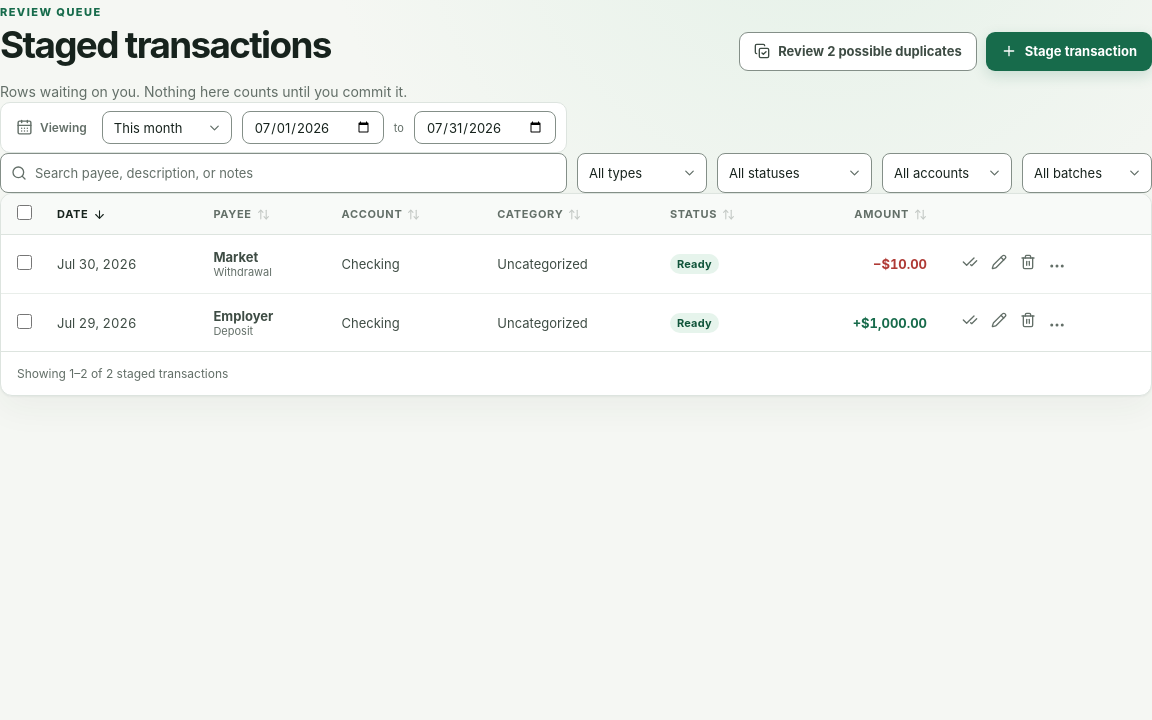
Scenario: editing staged rows in bulk › says how the queue looks afterwards and drops the selection
The image size is (1152, 720).
Check: the text "Market" is shown, box top-left (213, 249), bottom-right (258, 265)
Click the checkbox named "Select Market": coordinates (24, 263) top-left (16, 255), bottom-right (32, 270)
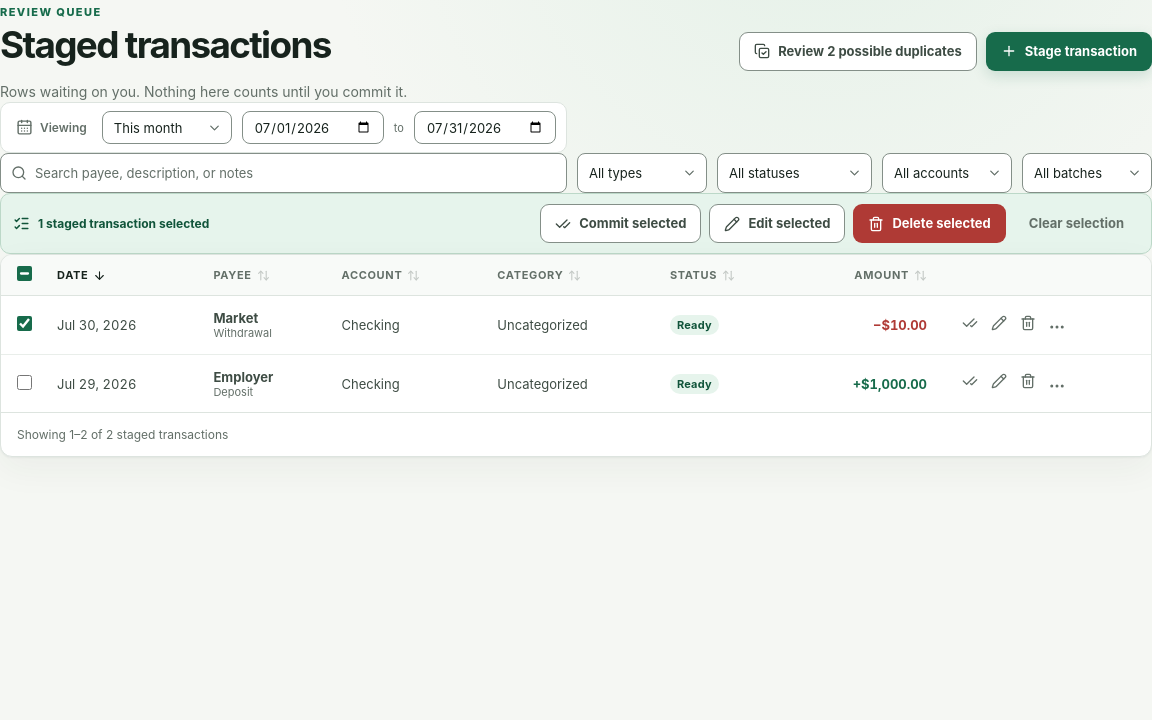
Click the checkbox named "Select Employer": coordinates (24, 382) top-left (16, 374), bottom-right (32, 390)
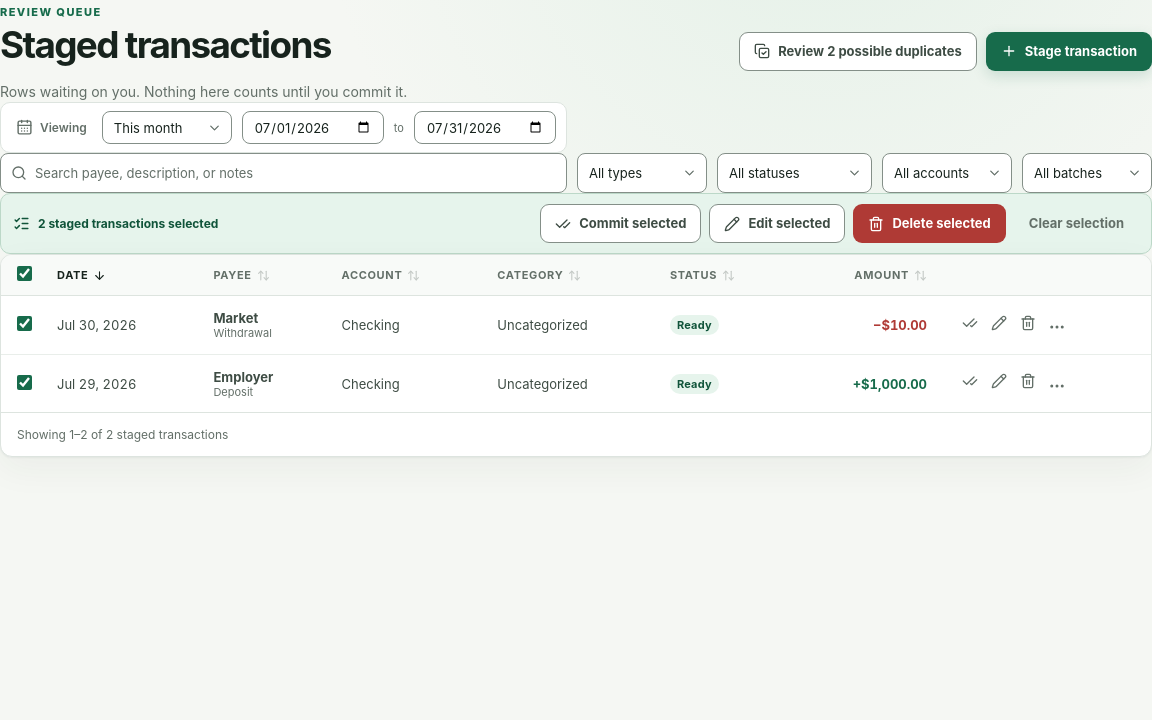
Click the button "Edit selected": coordinates (777, 224) top-left (709, 204), bottom-right (845, 243)
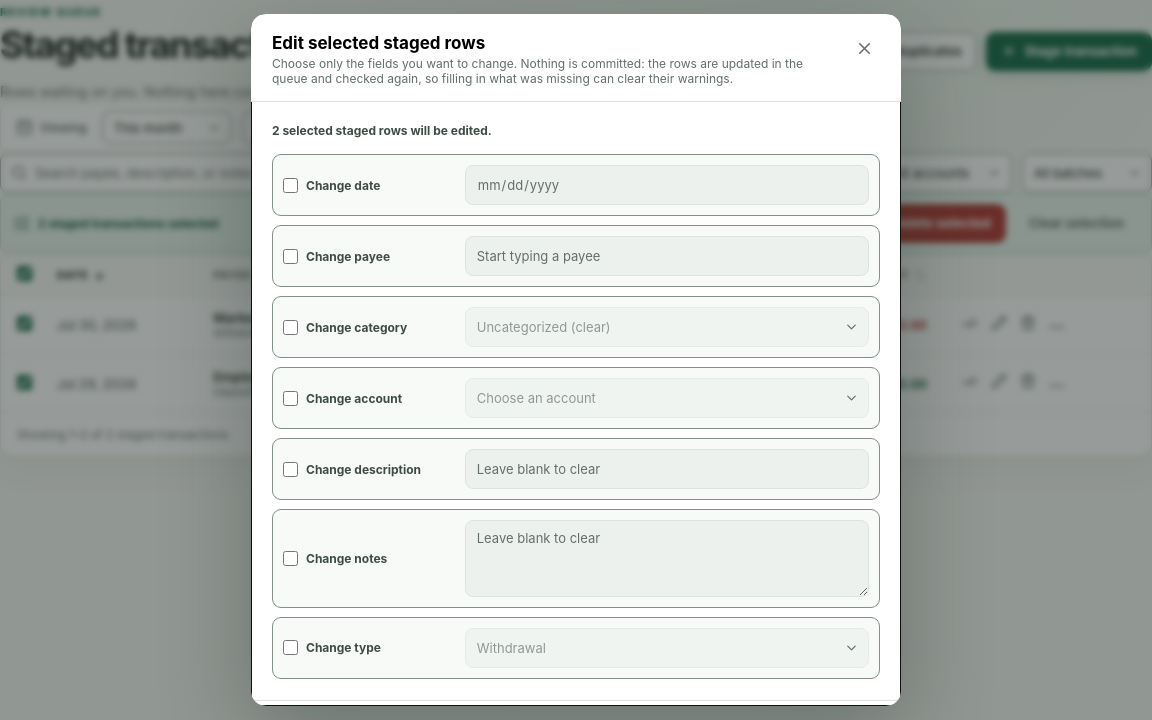
Click the text "Change payee": coordinates (348, 256) top-left (306, 248), bottom-right (390, 264)
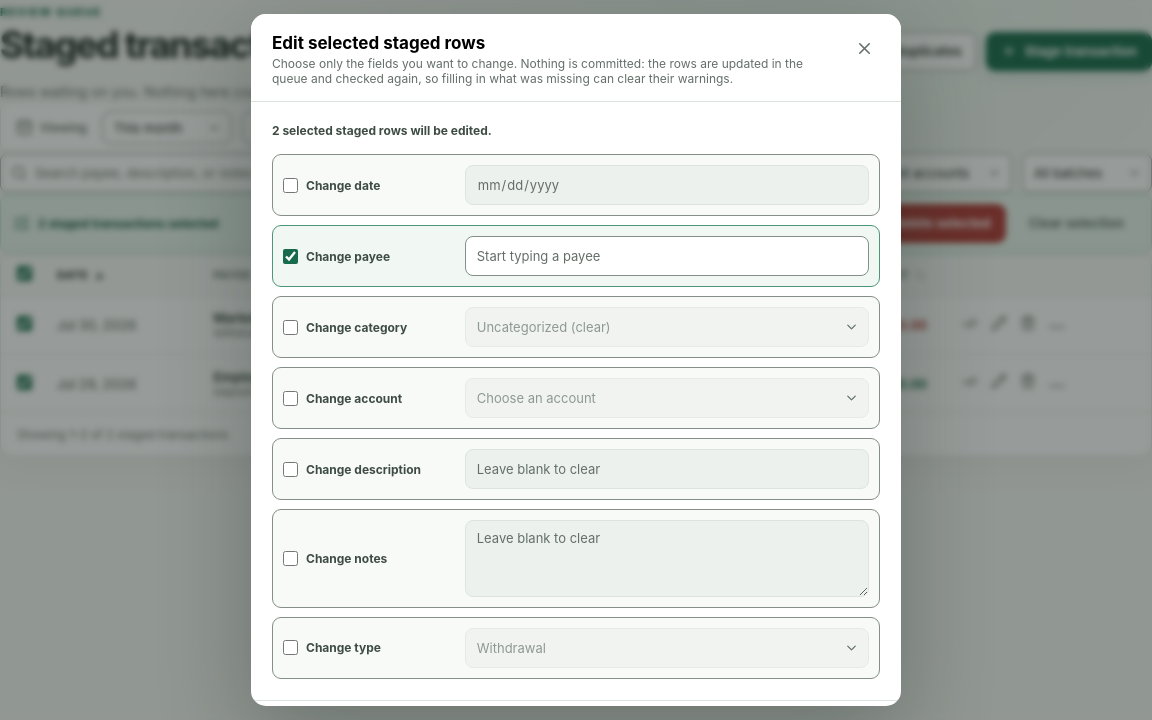
In the field named "New payee": coordinates (667, 256) top-left (465, 236), bottom-right (869, 276), type "Corner Shop"
(page scrolled)
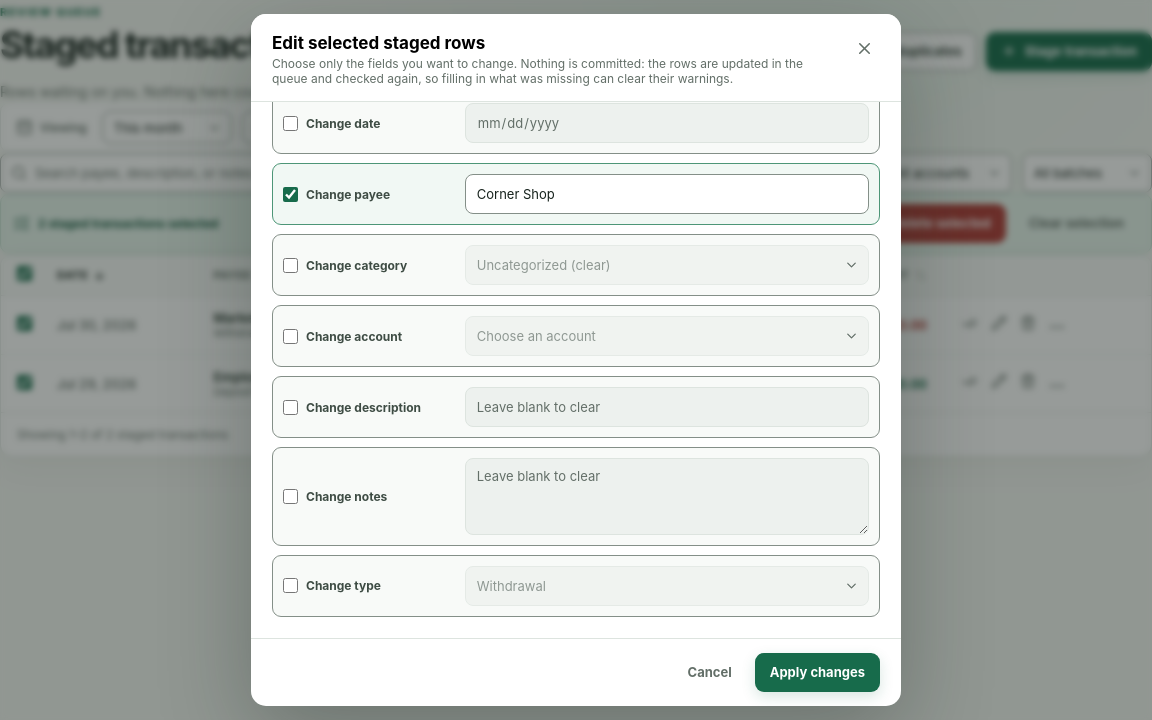
Click the button "Apply changes": coordinates (817, 672) top-left (755, 652), bottom-right (880, 692)
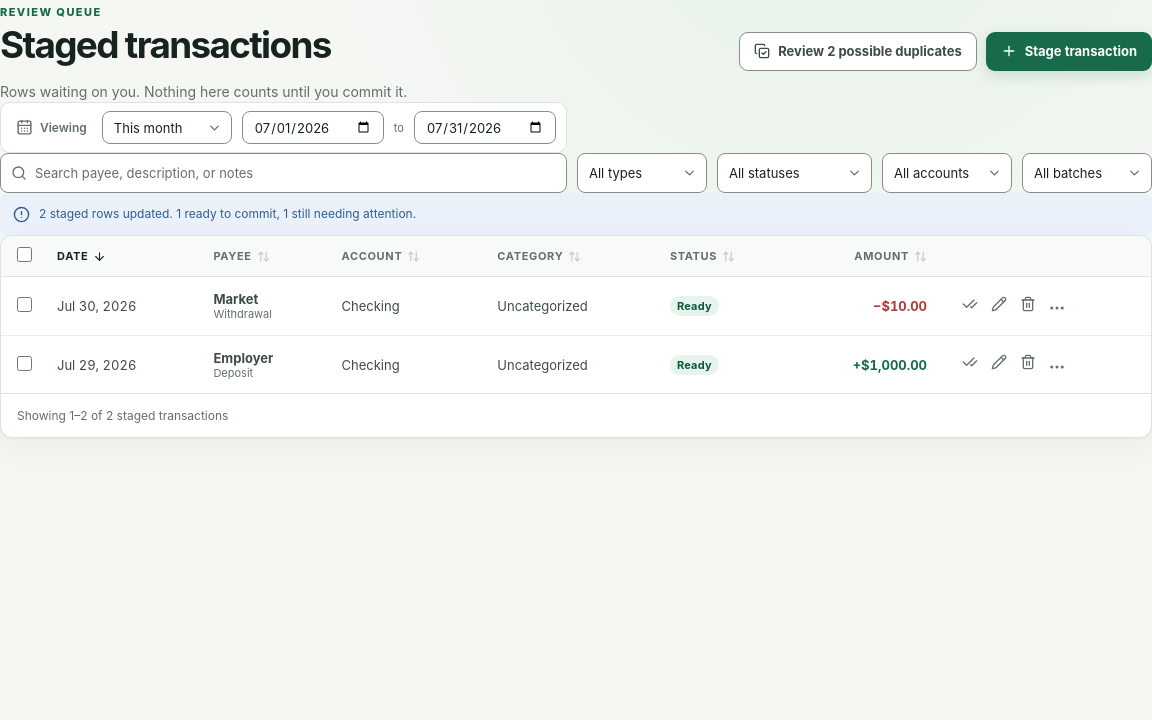
Check: the text "2 staged rows updated. 1 ready to commit, 1 still needing attention." is shown, box top-left (39, 205), bottom-right (416, 223)
Check: the text "2 staged transactions selected" is gone
